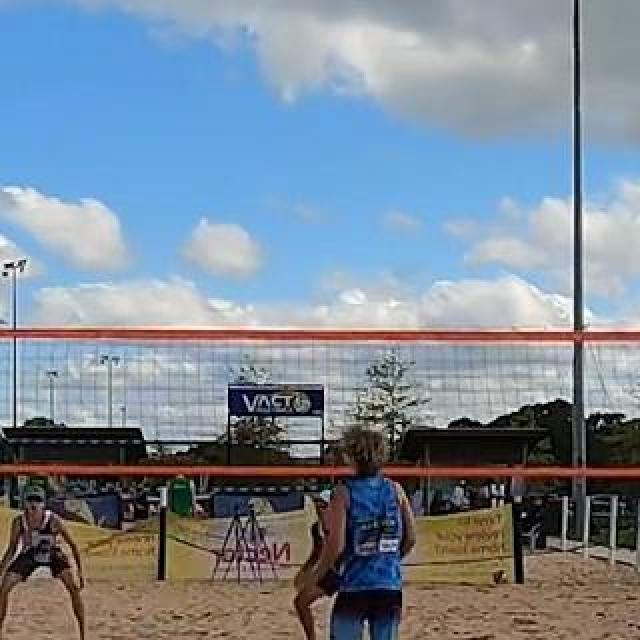volleyball: (491, 571, 507, 585)
